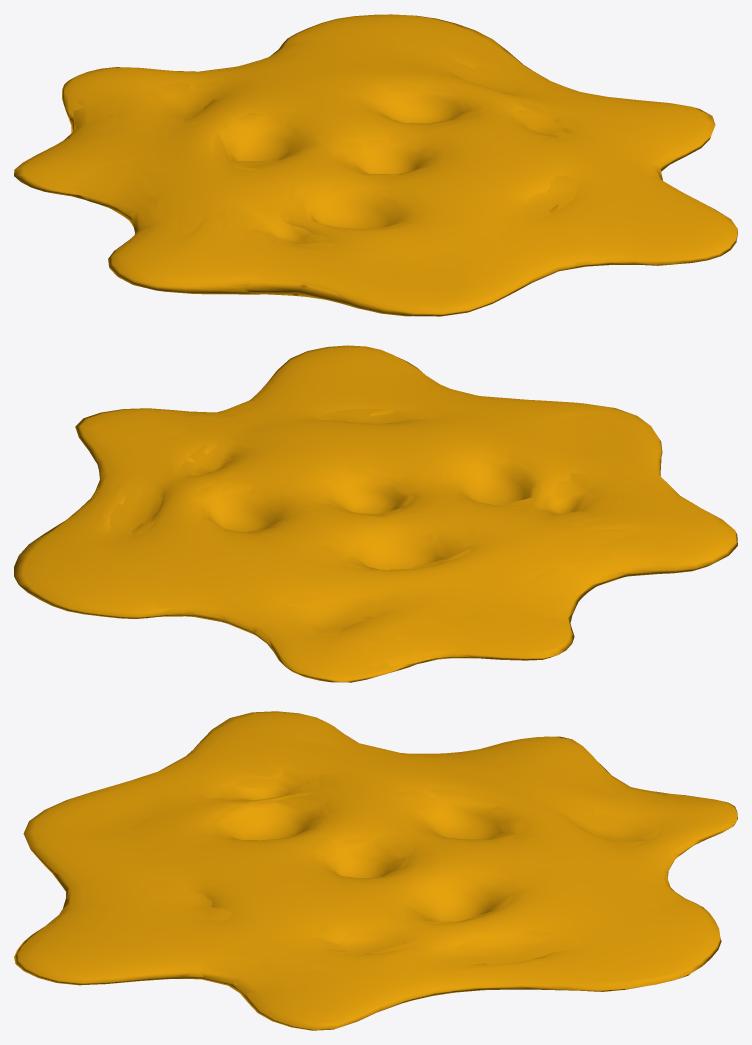
The model's file is quesocharco.fbx.
The picture shows the model from 3 angles, top to bottom: view 1: azimuth 30°, elevation 25°; view 2: azimuth 150°, elevation 25°; view 3: azimuth 270°, elevation 25°; orthographic projection. The views are drawn at different scales.
Parts seen in each view (by area): view 1: Cube, Retopo_Cube; view 2: Cube, Retopo_Cube; view 3: Cube, Retopo_Cube.
Part boxes in pixels (x1,y1,x2,y2): Cube: [14, 14, 737, 316]; Retopo_Cube: [58, 40, 678, 304]; Cube: [14, 345, 737, 682]; Retopo_Cube: [60, 368, 678, 666]; Cube: [14, 711, 737, 1030]; Retopo_Cube: [47, 727, 698, 1002].
Size of the model in its own units: 777 by 39.95 by 759.
